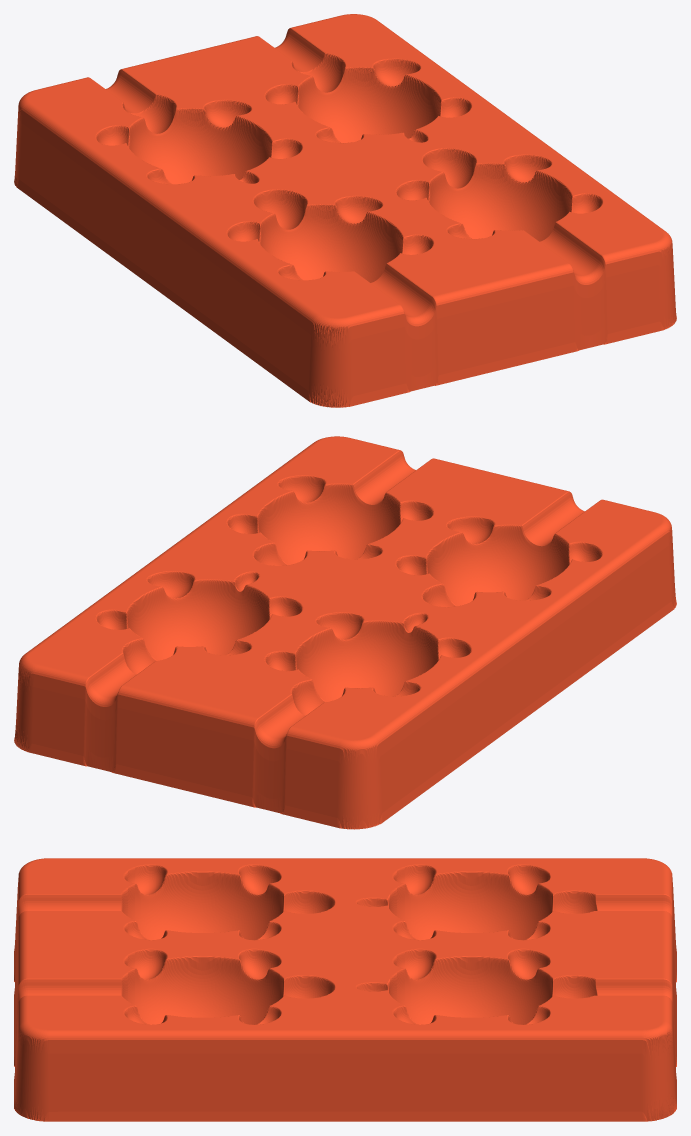
File: mold.glb
The picture shows the model from 3 angles, top to bottom: view 1: azimuth 30°, elevation 25°; view 2: azimuth 150°, elevation 25°; view 3: azimuth 270°, elevation 25°; orthographic projection. The views are drawn at different scales.
Visible parts, largest first — view 1: geometry_0; view 2: geometry_0; view 3: geometry_0.
Part boxes in pixels (<box>): geometry_0: <box>14,14,676,407</box>; geometry_0: <box>14,436,676,829</box>; geometry_0: <box>14,858,676,1121</box>.
Size of the model in its own units: 0.1118 by 0.0245 by 0.1715.
